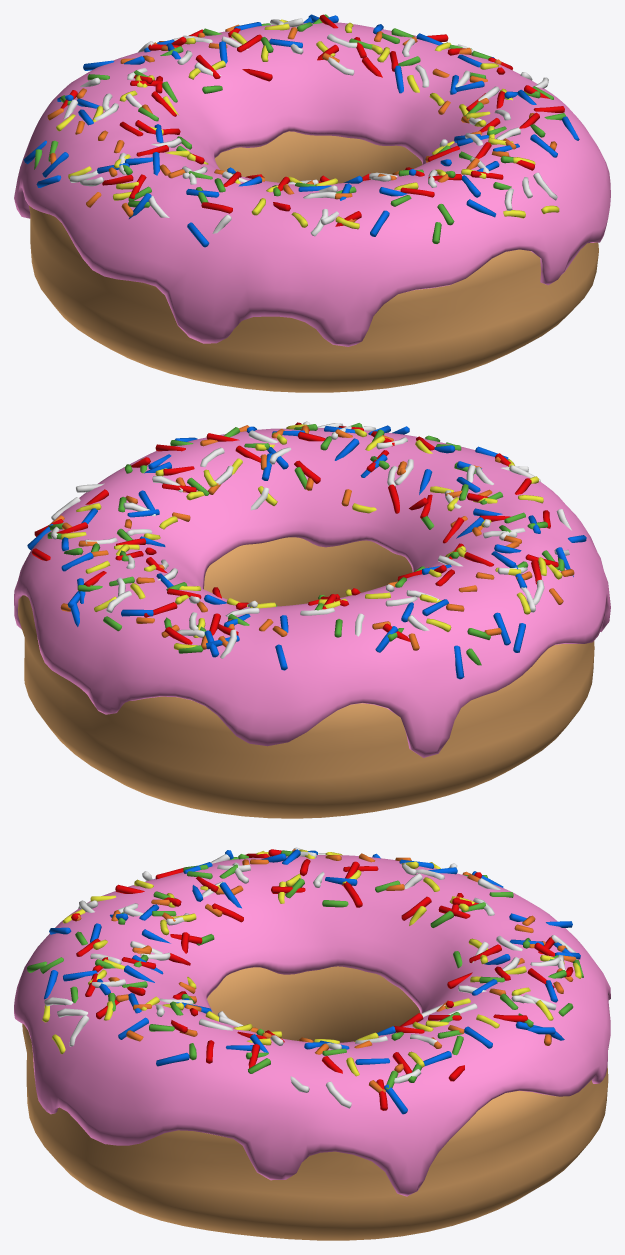
Rendered from donut-forAR-expanded.glb.
3 views of the same model, one above another, from view 1: azimuth 30°, elevation 25°; view 2: azimuth 150°, elevation 25°; view 3: azimuth 270°, elevation 25° (orthographic). The views are drawn at different scales.
Parts seen in each view (by area): view 1: Icing.001, Donut.001; view 2: Icing.001, Donut.001; view 3: Icing.001, Donut.001.
Part boxes in pixels (box(x1,y1,x2,y2)): Icing.001: box(14, 22, 610, 346); Donut.001: box(29, 131, 598, 392); Icing.001: box(14, 428, 610, 757); Donut.001: box(18, 537, 594, 818); Icing.001: box(14, 855, 610, 1196); Donut.001: box(22, 966, 608, 1240).
Size of the model in its own units: 0.0289 by 0.0116 by 0.0292.
